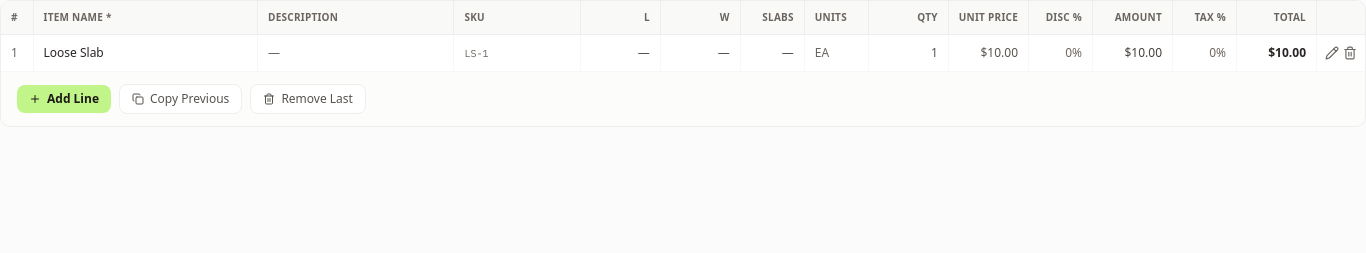
Scenario: Quote items table — adding a kit › removes the whole kit with its heading button
Step 1. Click the button "Add Line" → (64, 99), box [17, 85, 111, 113]
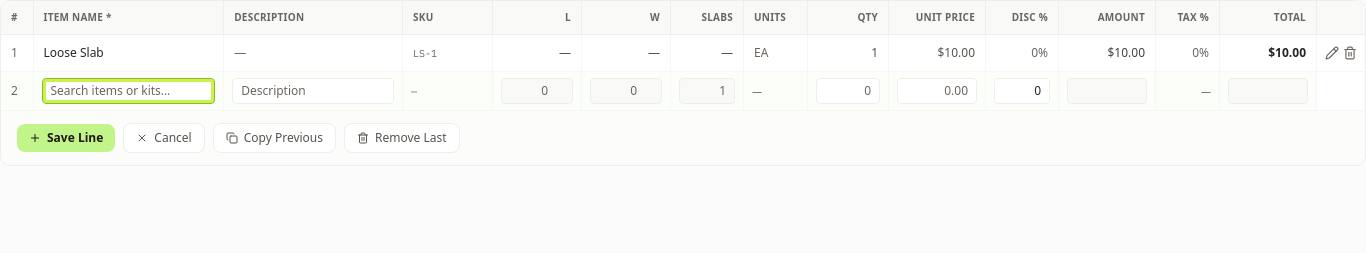
Step 2. Type "Kitch" into the dropdown named "Item Name" → (128, 91), box [42, 78, 215, 104]
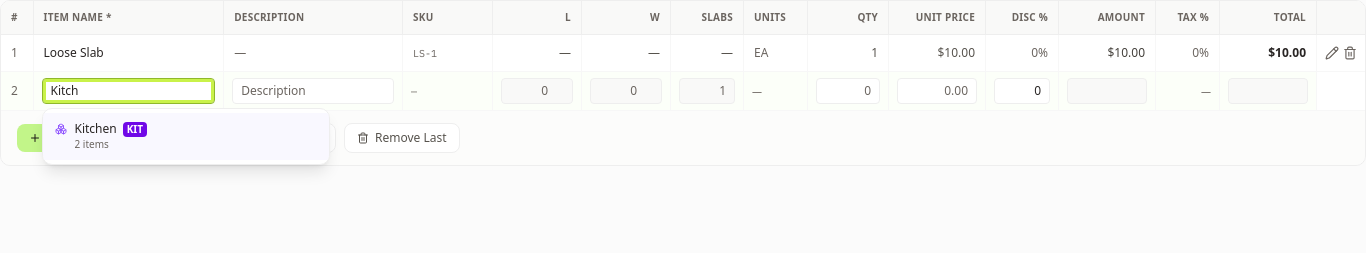
Step 3. Click the option "Kitchen KIT 2 items" → (96, 129), box [42, 113, 328, 160]
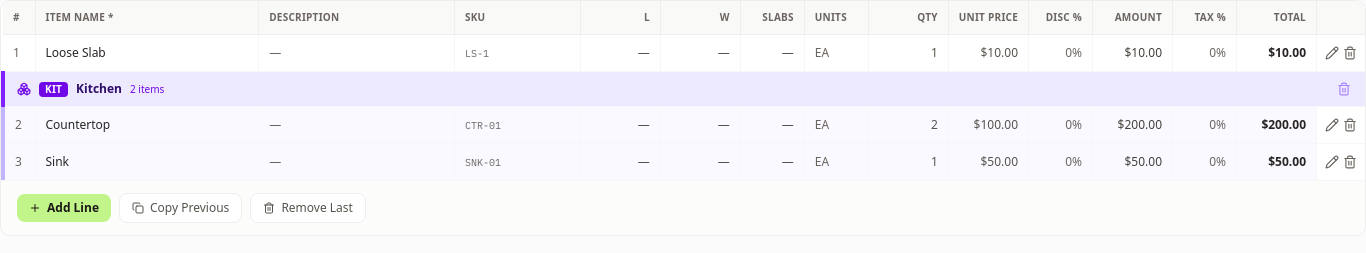
Now the row "Kit Kitchen" is shown, box [3, 72, 1365, 107]
Step 4. Click the button named "Remove kit Kitchen and its 2 items" → (1344, 89), box [1335, 80, 1353, 98]
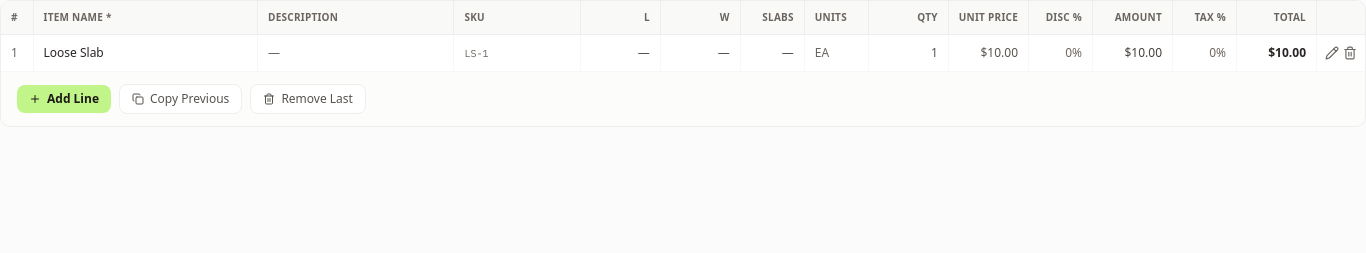
Expected: the row "1 Loose Slab — LS-1 — — — EA 1 $10.00 0% $10.00 0% $10.00" is shown, [1, 35, 1365, 71]
Now the row "Kit Kitchen" is gone
Now the cell "Countertop" is gone
